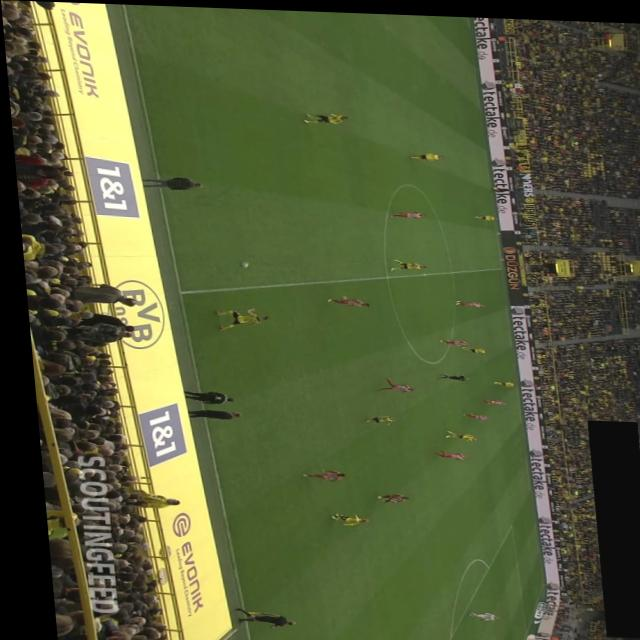goalkeeper: (456, 609, 488, 618)
player: (208, 305, 263, 331), (301, 110, 346, 123), (370, 375, 407, 390), (383, 256, 422, 270), (292, 467, 337, 479), (320, 510, 359, 523), (321, 296, 364, 305), (366, 490, 400, 501), (437, 428, 469, 439), (425, 447, 460, 457), (385, 207, 423, 216), (407, 150, 441, 159), (357, 413, 387, 423), (454, 408, 482, 417), (432, 336, 464, 343), (449, 297, 479, 304), (454, 344, 483, 350), (469, 211, 493, 218), (472, 395, 498, 401), (485, 377, 510, 383)
referee: (223, 606, 284, 628), (430, 371, 462, 378), (486, 183, 512, 190)
